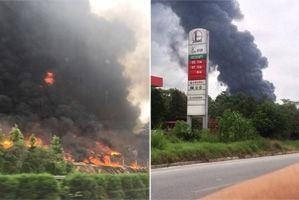fire: (65, 142, 146, 170)
